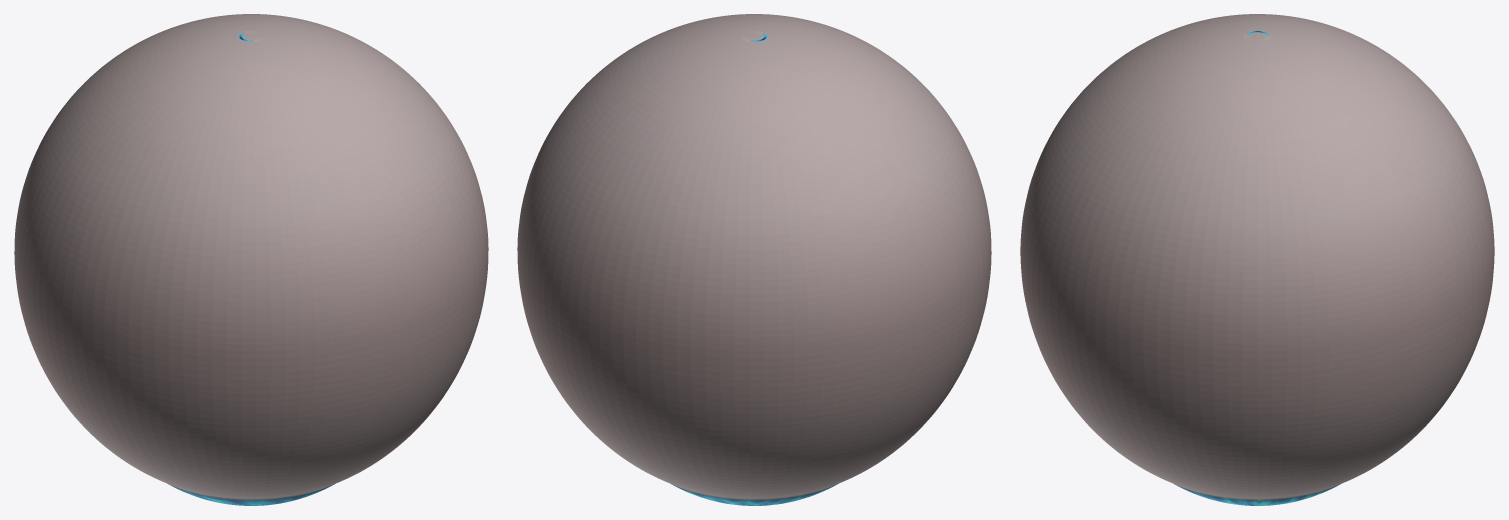
File: eye_ori2.obj
3 renders of one model, left to right at view 1: azimuth 30°, elevation 25°; view 2: azimuth 150°, elevation 25°; view 3: azimuth 270°, elevation 25°, orthographic.
Parts seen in each view (by area): view 1: 6_center_trans_ori; view 2: 6_center_trans_ori; view 3: 6_center_trans_ori.
Boxes of the visible parts, <box> form: 6_center_trans_ori: <box>14,14,488,505</box>; 6_center_trans_ori: <box>517,14,991,505</box>; 6_center_trans_ori: <box>1020,14,1494,505</box>.
Size of the model in its own units: 0.0237 by 0.025 by 0.0237.
1 material, 1 textured.
